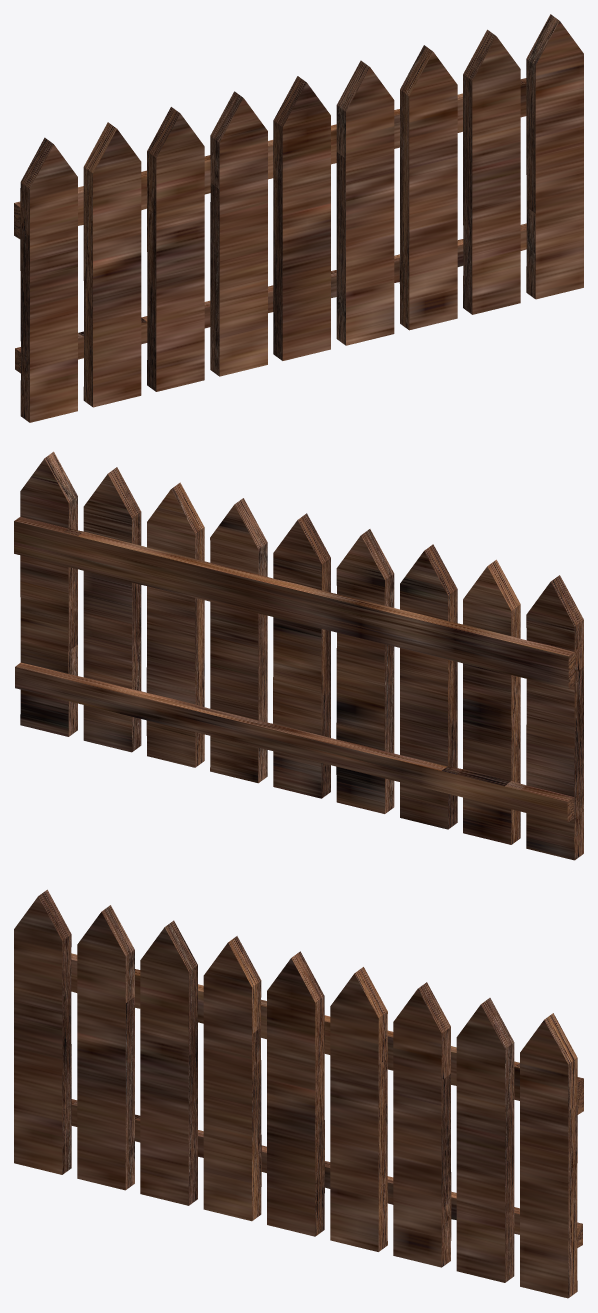
The model's file is Reja_V004_Finish.fbx.
The picture shows the model from 3 angles, top to bottom: view 1: azimuth 30°, elevation 25°; view 2: azimuth 150°, elevation 25°; view 3: azimuth 330°, elevation 25°; orthographic projection.
Parts seen in each view (by area): view 1: Cube.012; view 2: Cube.012; view 3: Cube.012.
Boxes of the visible parts, x1,y1,x2,y2 form: Cube.012: (14, 14, 583, 422); Cube.012: (14, 451, 583, 860); Cube.012: (14, 889, 583, 1298).
Size of the model in its own units: 372 by 175 by 18.09.
